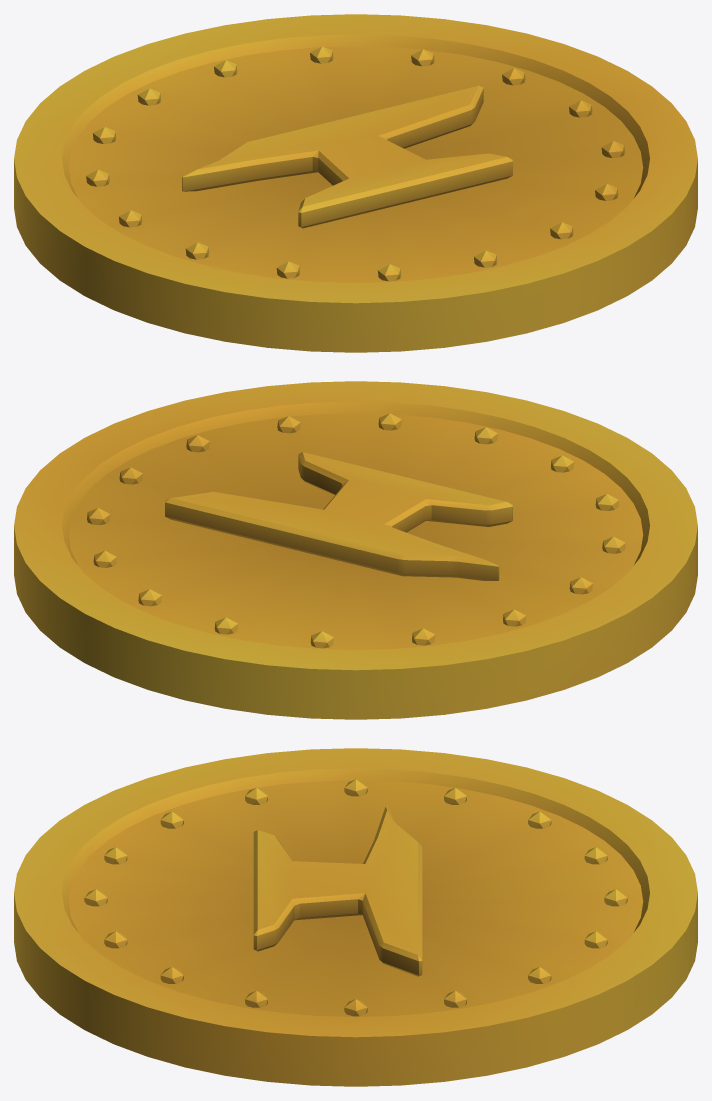
Rendered from coin.glb.
3 views of the same model, one above another, from view 1: azimuth 30°, elevation 25°; view 2: azimuth 150°, elevation 25°; view 3: azimuth 270°, elevation 25° (orthographic).
Parts seen in each view (by area): view 1: coin; view 2: coin; view 3: coin.
Boxes of the visible parts, box(x1,y1,x2,y2) form: coin: box(14, 14, 697, 352); coin: box(14, 381, 697, 719); coin: box(14, 748, 697, 1086).
Size of the model in its own units: 2 by 0.2424 by 2.
